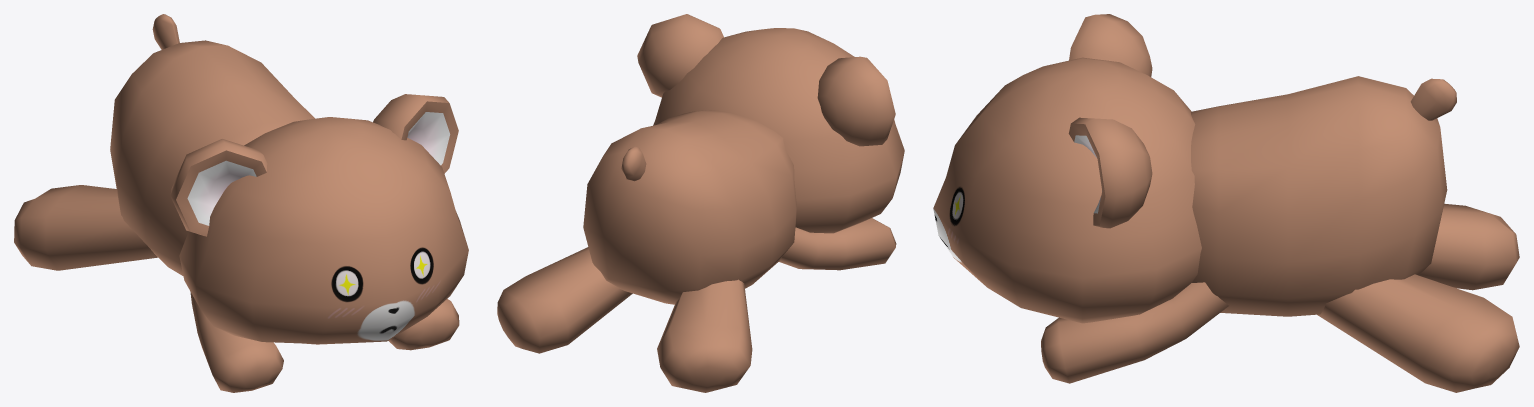
The model's file is nokkerukuma.fbx.
The picture shows the model from 3 angles, left to right: view 1: azimuth 30°, elevation 25°; view 2: azimuth 150°, elevation 25°; view 3: azimuth 270°, elevation 25°; orthographic projection. The views are drawn at different scales.
Parts seen in each view (by area): view 1: nokkerukuma; view 2: nokkerukuma; view 3: nokkerukuma.
Part boxes in pixels (left/top/right/bottom): nokkerukuma: left=14, top=14, right=468, bottom=392; nokkerukuma: left=497, top=14, right=904, bottom=392; nokkerukuma: left=933, top=14, right=1519, bottom=392.
Bounding box in the file's own units: 0.1571 × 0.1301 × 0.2576.
1 material, 1 textured.
